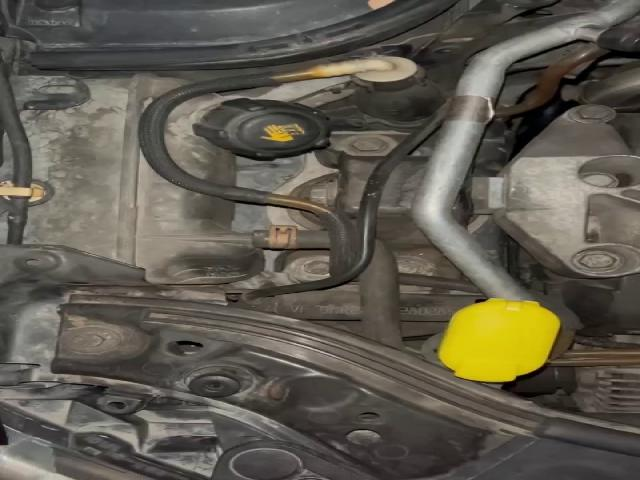antifreeze_tank: (22, 77, 263, 284), (163, 94, 331, 184)
